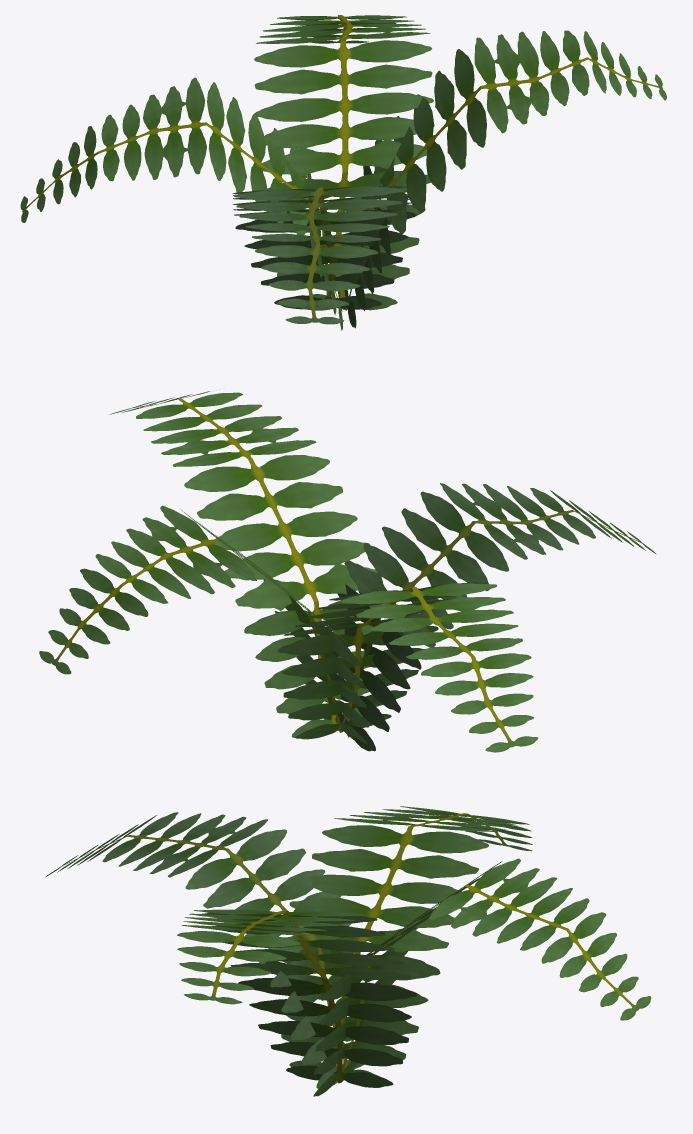
The model's file is fern-002-4.glb.
3 renders of one model, top to bottom at view 1: azimuth 30°, elevation 25°; view 2: azimuth 150°, elevation 25°; view 3: azimuth 270°, elevation 25°, orthographic. The views are drawn at different scales.
Visible parts, largest first — view 1: fern.002_4; view 2: fern.002_4; view 3: fern.002_4.
Part boxes in pixels (x1,y1,x2,y2): fern.002_4: (20,15,666,330); fern.002_4: (39,391,655,752); fern.002_4: (45,806,651,1096).
Size of the model in its own units: 11.36 by 4.86 by 10.86.
Materials: 1 (1 with a texture image).
